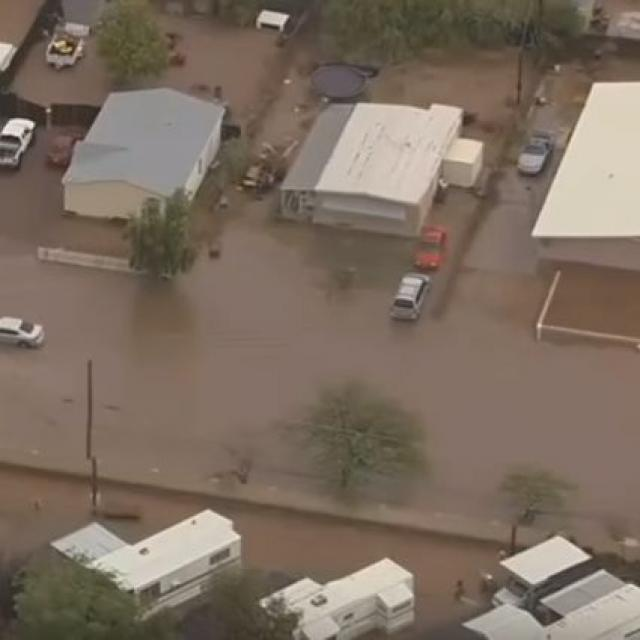flood: (0, 7, 640, 556), (0, 466, 493, 633), (7, 25, 111, 105), (546, 264, 640, 338), (61, 0, 106, 26)
house: (268, 90, 470, 250), (55, 80, 242, 231), (48, 502, 254, 615), (520, 77, 640, 256), (486, 540, 630, 640), (260, 560, 425, 640)
